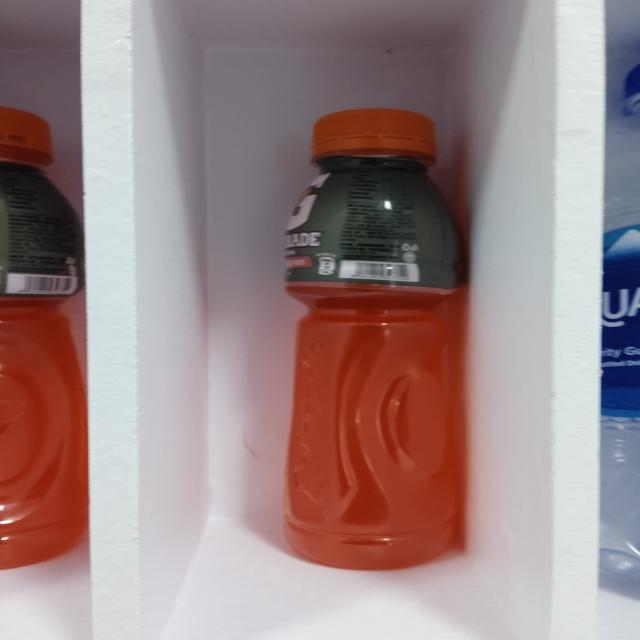Plastic: (284, 104, 466, 572), (0, 115, 80, 570), (600, 70, 640, 598)
